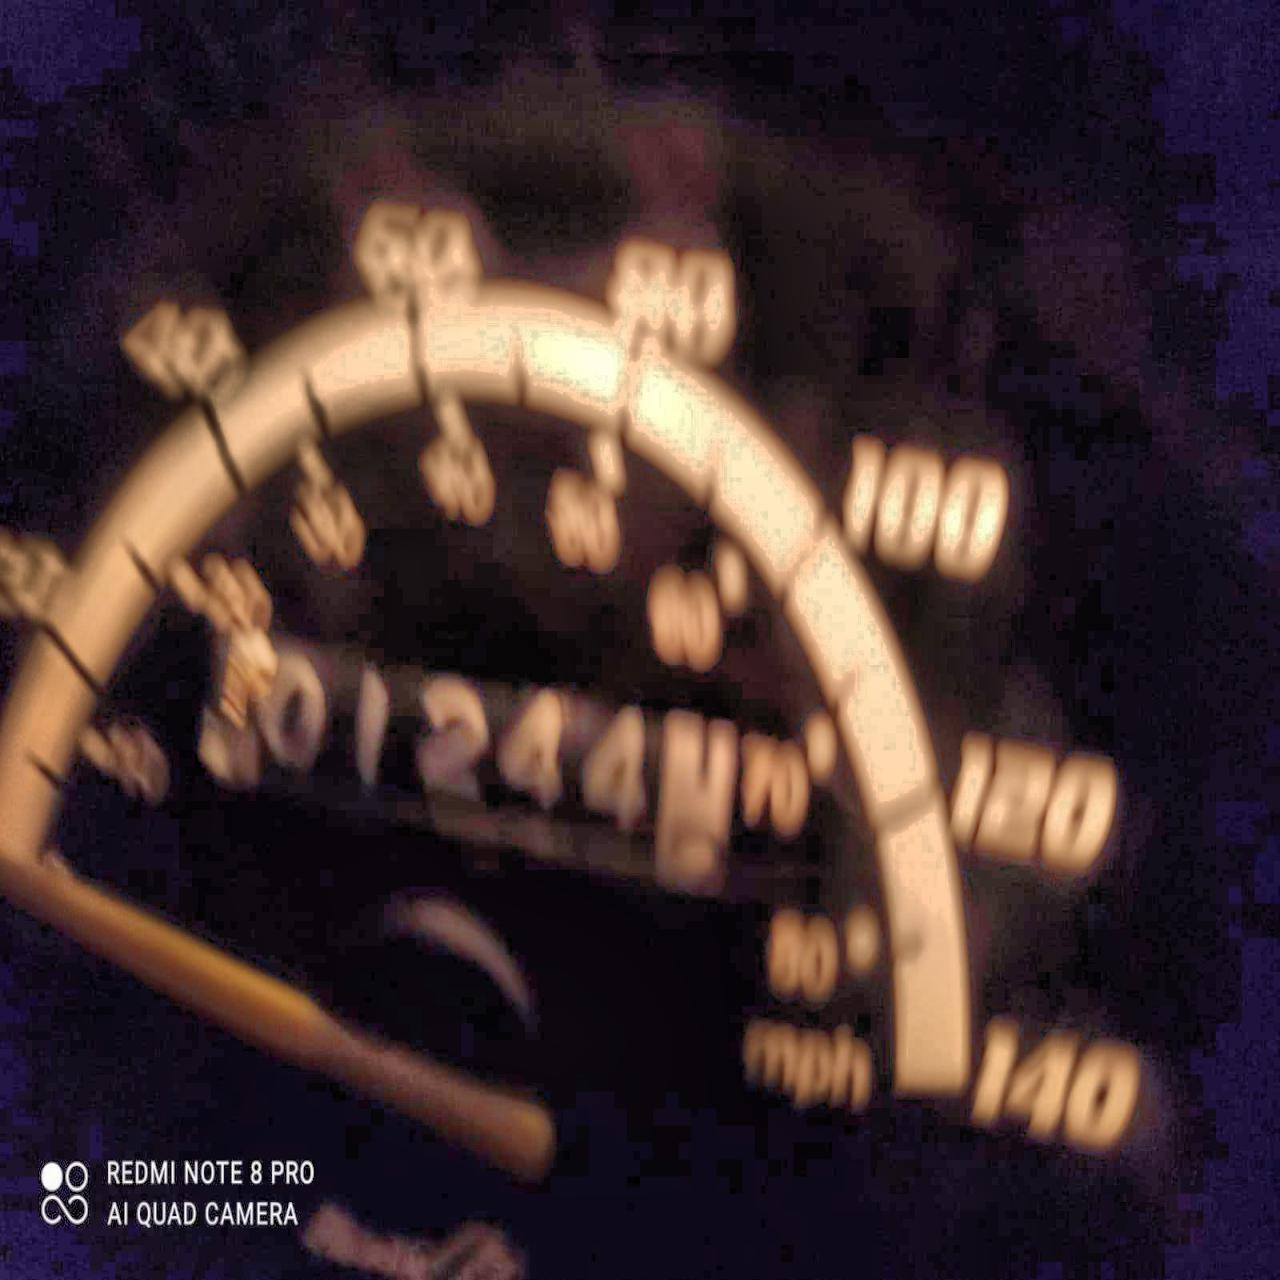0: (266, 652, 324, 799)
1: (346, 660, 397, 845), (688, 683, 729, 822)
2: (422, 674, 485, 813)
4: (504, 686, 568, 833), (586, 699, 652, 839)
odometer: (233, 641, 747, 903)
